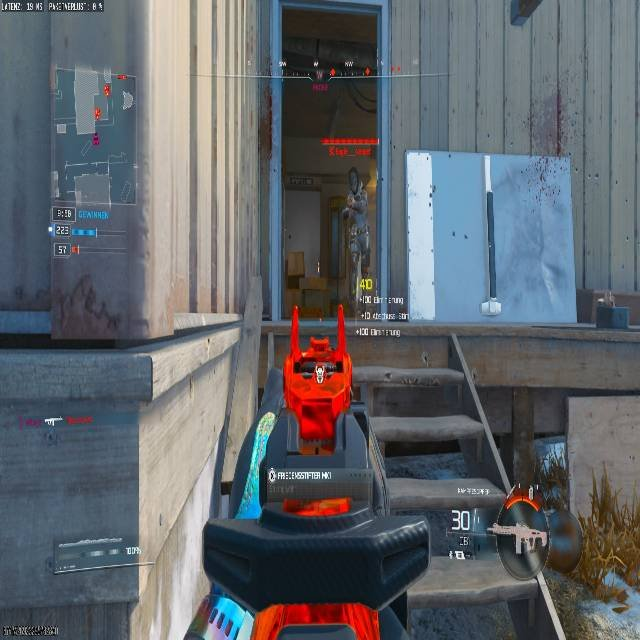player: (341, 166, 371, 273)
